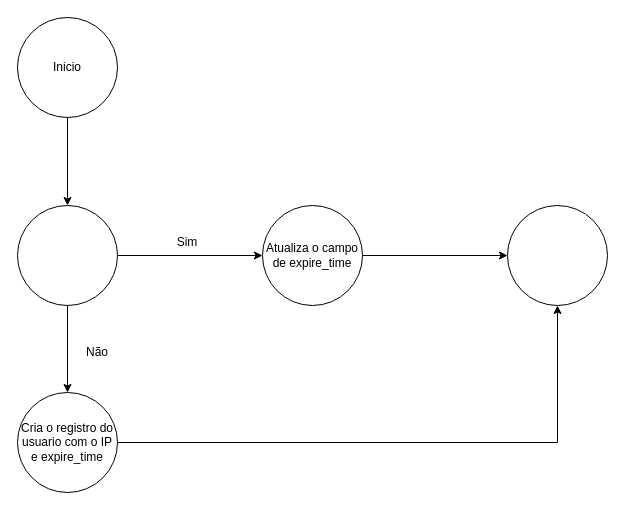
The diagram is 625 pixels wide and 510 high, and some of its shapes have lost their labels. The shapes that lost their labels are listed below. From the top down, each one's centre as x and y in pixels, then its label:
At [67,255]: "Verifica se existe registro para o usuario com o mesmo ip".
At [557,255]: "Fim".
